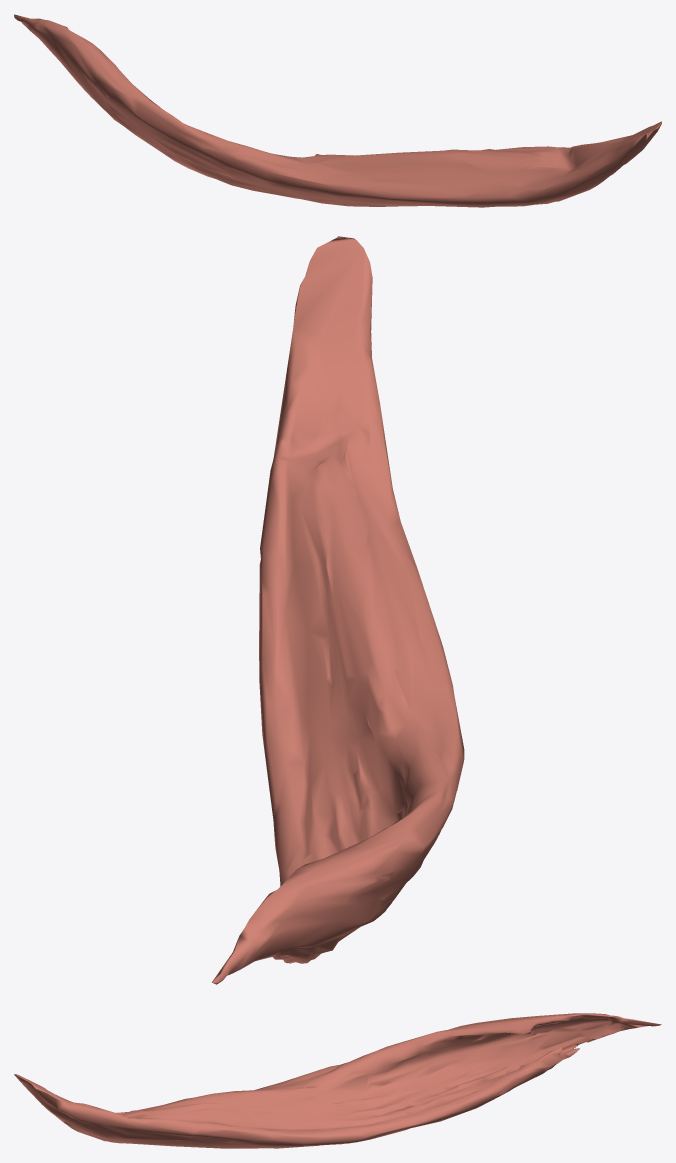
3 renders of one model, top to bottom at view 1: azimuth 30°, elevation 25°; view 2: azimuth 150°, elevation 25°; view 3: azimuth 270°, elevation 25°, orthographic. The views are drawn at different scales.
Visible parts, largest first — view 1: 右侧旋前圆肌肱头; view 2: 右侧旋前圆肌肱头; view 3: 右侧旋前圆肌肱头.
Boxes of the visible parts, x1=… form: 右侧旋前圆肌肱头: x1=14, y1=14, x2=661, y2=207; 右侧旋前圆肌肱头: x1=212, y1=236, x2=464, y2=984; 右侧旋前圆肌肱头: x1=14, y1=1013, x2=661, y2=1148.
Size of the model in its own units: 0.1063 by 0.0531 by 0.2219.
